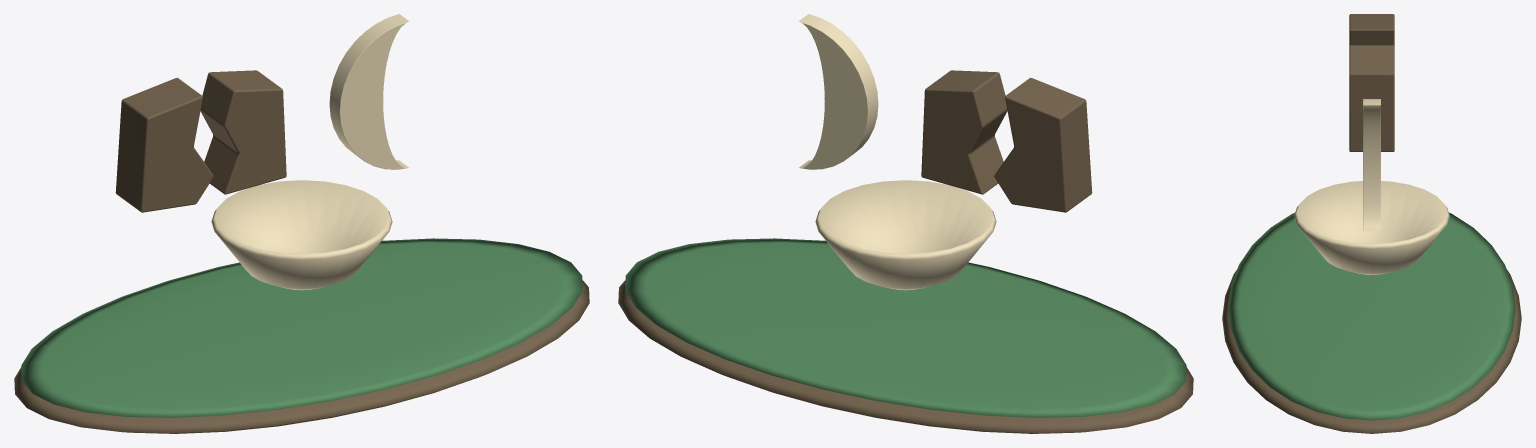
The model's file is complete-second-stone-curve-bowl.glb.
The picture shows the model from 3 angles, left to right: view 1: azimuth 30°, elevation 25°; view 2: azimuth 150°, elevation 25°; view 3: azimuth 270°, elevation 25°; orthographic projection. The views are drawn at different scales.
Parts seen in each view (by area): view 1: complete-second-stone-curve-bowl_surface_01, complete-second-stone-curve-bowl_surface_00, complete-second-stone-curve-bowl_surface_02; view 2: complete-second-stone-curve-bowl_surface_01, complete-second-stone-curve-bowl_surface_00, complete-second-stone-curve-bowl_surface_02; view 3: complete-second-stone-curve-bowl_surface_01, complete-second-stone-curve-bowl_surface_02, complete-second-stone-curve-bowl_surface_00.
Part boxes in pixels (<box>): complete-second-stone-curve-bowl_surface_01: <box>21,238,582,417</box>; complete-second-stone-curve-bowl_surface_00: <box>14,70,589,433</box>; complete-second-stone-curve-bowl_surface_02: <box>211,14,409,290</box>; complete-second-stone-curve-bowl_surface_01: <box>625,238,1186,417</box>; complete-second-stone-curve-bowl_surface_00: <box>618,70,1193,433</box>; complete-second-stone-curve-bowl_surface_02: <box>798,14,996,290</box>; complete-second-stone-curve-bowl_surface_01: <box>1228,212,1515,420</box>; complete-second-stone-curve-bowl_surface_02: <box>1294,99,1449,274</box>; complete-second-stone-curve-bowl_surface_00: <box>1222,14,1521,433</box>.
Bounding box in the file's own units: 4.56 × 2.49 × 2.5.
